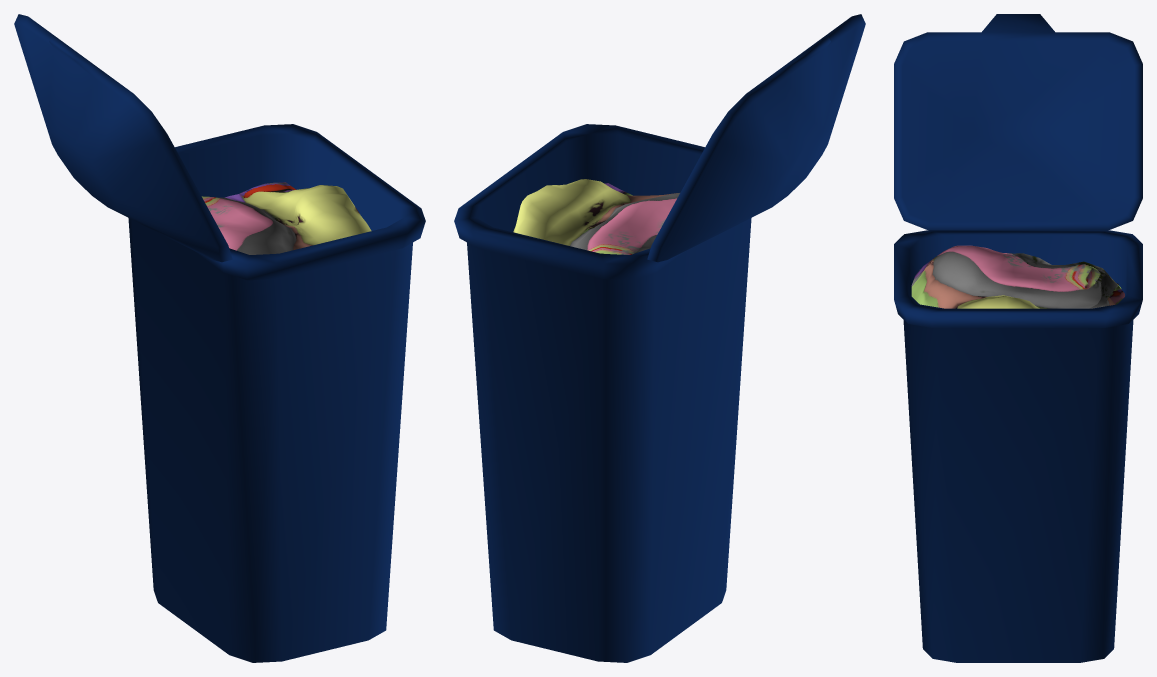
Rendered from washbag.obj.
3 renders of one model, left to right at view 1: azimuth 30°, elevation 25°; view 2: azimuth 150°, elevation 25°; view 3: azimuth 270°, elevation 25°, orthographic. The views are drawn at different scales.
Visible parts, largest first — view 1: obj1, obj2; view 2: obj1, obj2; view 3: obj1, obj2.
Part boxes in pixels (<box>): obj1: <box>14,14,425,662</box>; obj2: <box>201,182,371,254</box>; obj1: <box>454,14,865,662</box>; obj2: <box>513,179,679,254</box>; obj1: <box>894,14,1142,662</box>; obj2: <box>911,245,1124,308</box>.
Bounding box in the file's own units: 2.88 × 5.49 × 2.33.
Materials: 2 (1 with a texture image).
